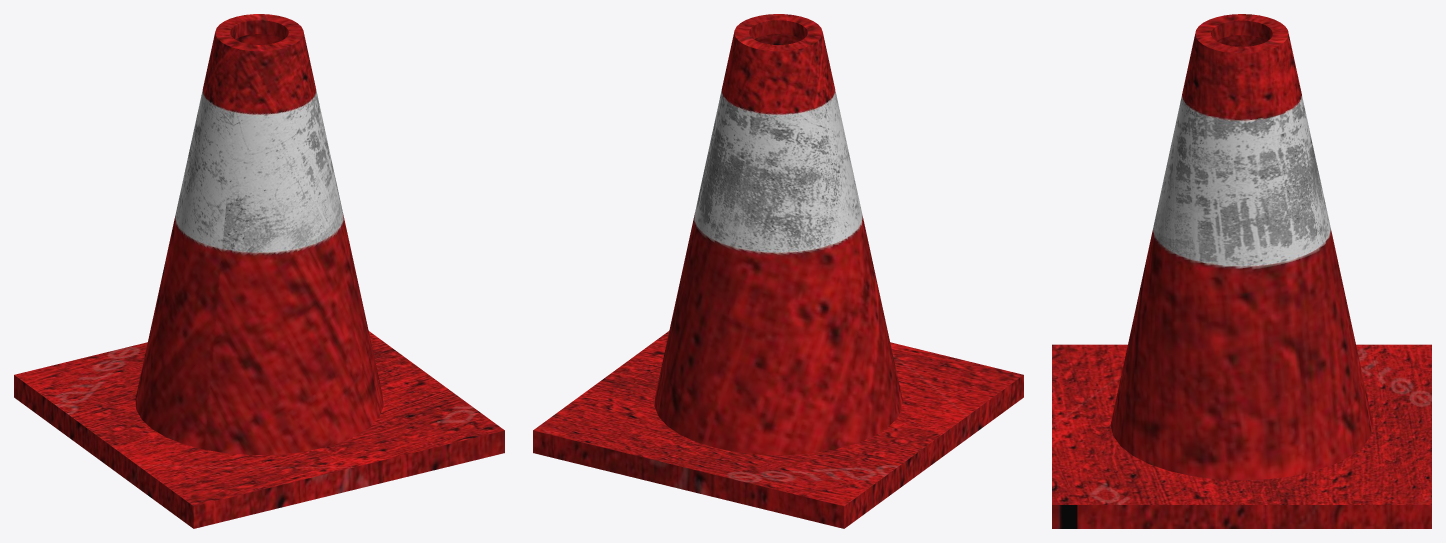
The model's file is corn bagus.fbx.
3 views of the same model, side by side, from view 1: azimuth 30°, elevation 25°; view 2: azimuth 150°, elevation 25°; view 3: azimuth 270°, elevation 25° (orthographic). The views are drawn at different scales.
Visible parts, largest first — view 1: Cylinder; view 2: Cylinder; view 3: Cylinder.
Boxes of the visible parts, x1=… form: Cylinder: x1=14, y1=14, x2=504, y2=528; Cylinder: x1=533, y1=14, x2=1023, y2=528; Cylinder: x1=1052, y1=14, x2=1431, y2=528.
Size of the model in its own units: 200 by 241 by 200.
1 material, 1 textured.
